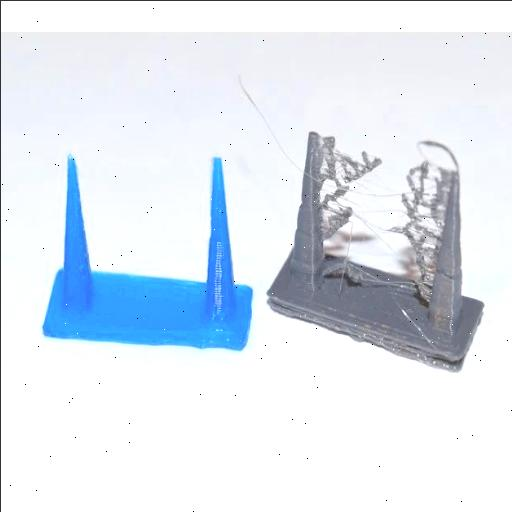stringing: (320, 134, 382, 283), (394, 152, 450, 312)
